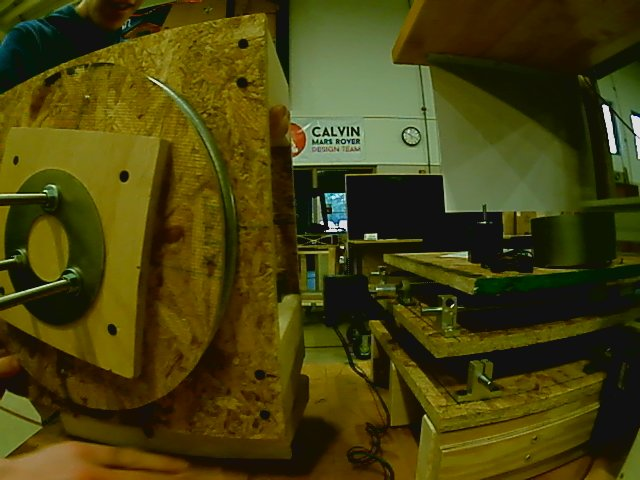bolt: (56, 266, 86, 304), (39, 181, 62, 215), (7, 246, 31, 277)
